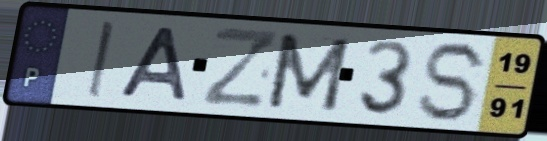3: (355, 38, 416, 117)
A: (114, 24, 190, 103)
I: (84, 18, 117, 100)
M: (262, 30, 354, 114)
S: (415, 38, 493, 124)
Z: (198, 24, 282, 109)
